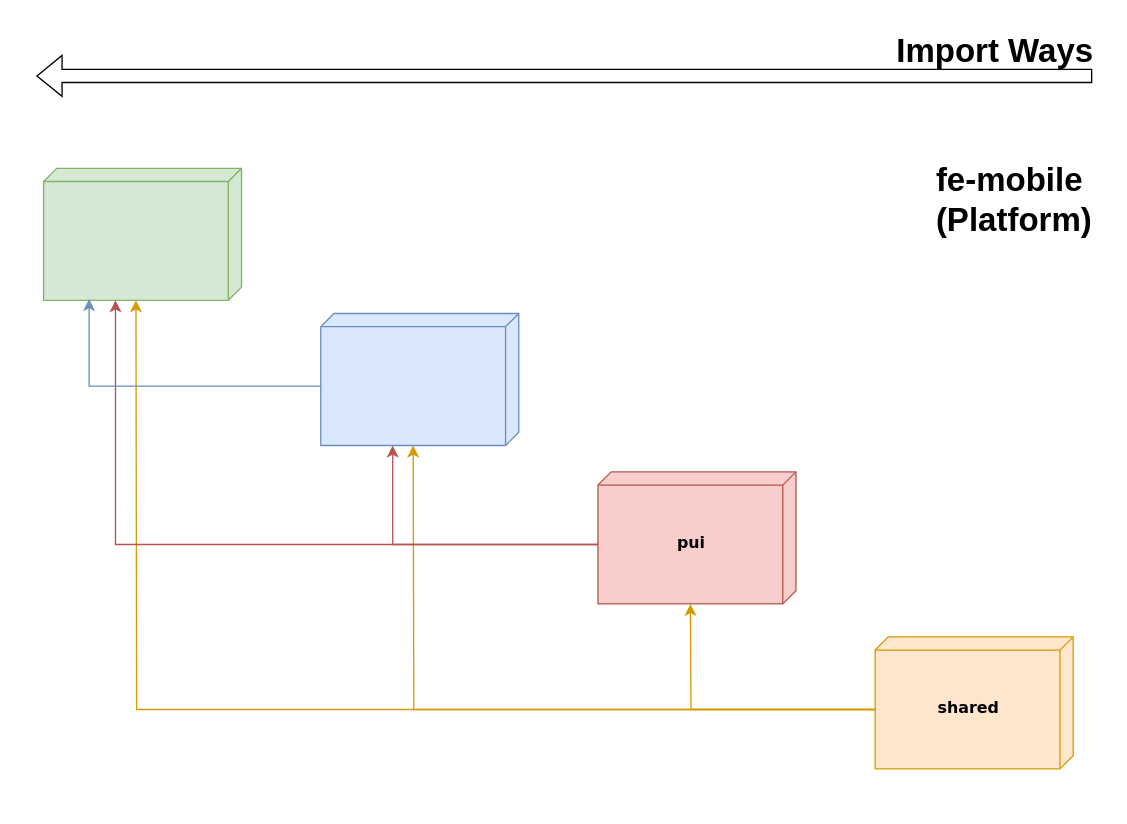
The diagram is 1127 pixels wide and 824 high, and some of its shapes have lost their labels. The shapes that lost their labels are listed below. From the top down, each one's centre as x and y in pixels, then its label:
At point (142, 233): "apps".
At point (419, 379): "features".
